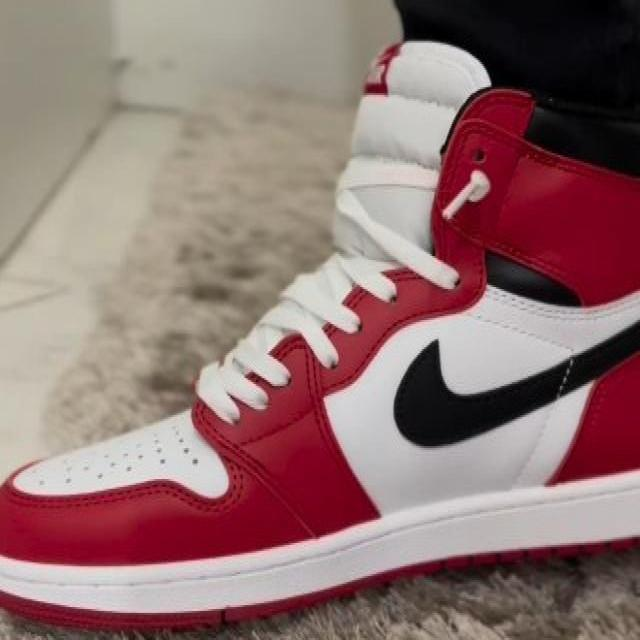J1_InsoleChar: (1, 38, 638, 632)
J1_ShoeLogo: (391, 319, 637, 448), (440, 167, 491, 221)
J1_ShoeShape: (393, 0, 638, 174)
J1_StitchPattern: (16, 165, 487, 503), (193, 38, 492, 426), (195, 251, 400, 423), (13, 407, 230, 505), (200, 416, 324, 541), (230, 296, 348, 390), (56, 424, 204, 485), (198, 339, 297, 421), (475, 281, 569, 351), (257, 295, 347, 352), (168, 421, 203, 468), (551, 353, 580, 400)
